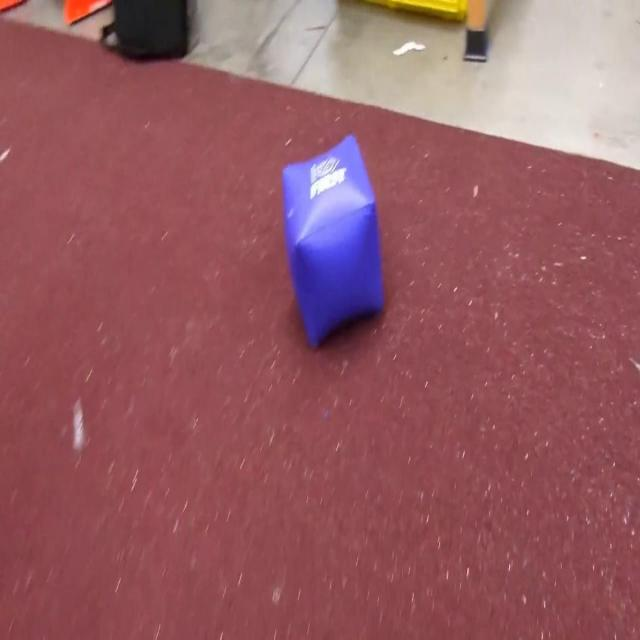frc_cube: (281, 132, 387, 352)
